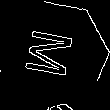M_E: (23, 27, 82, 82)
